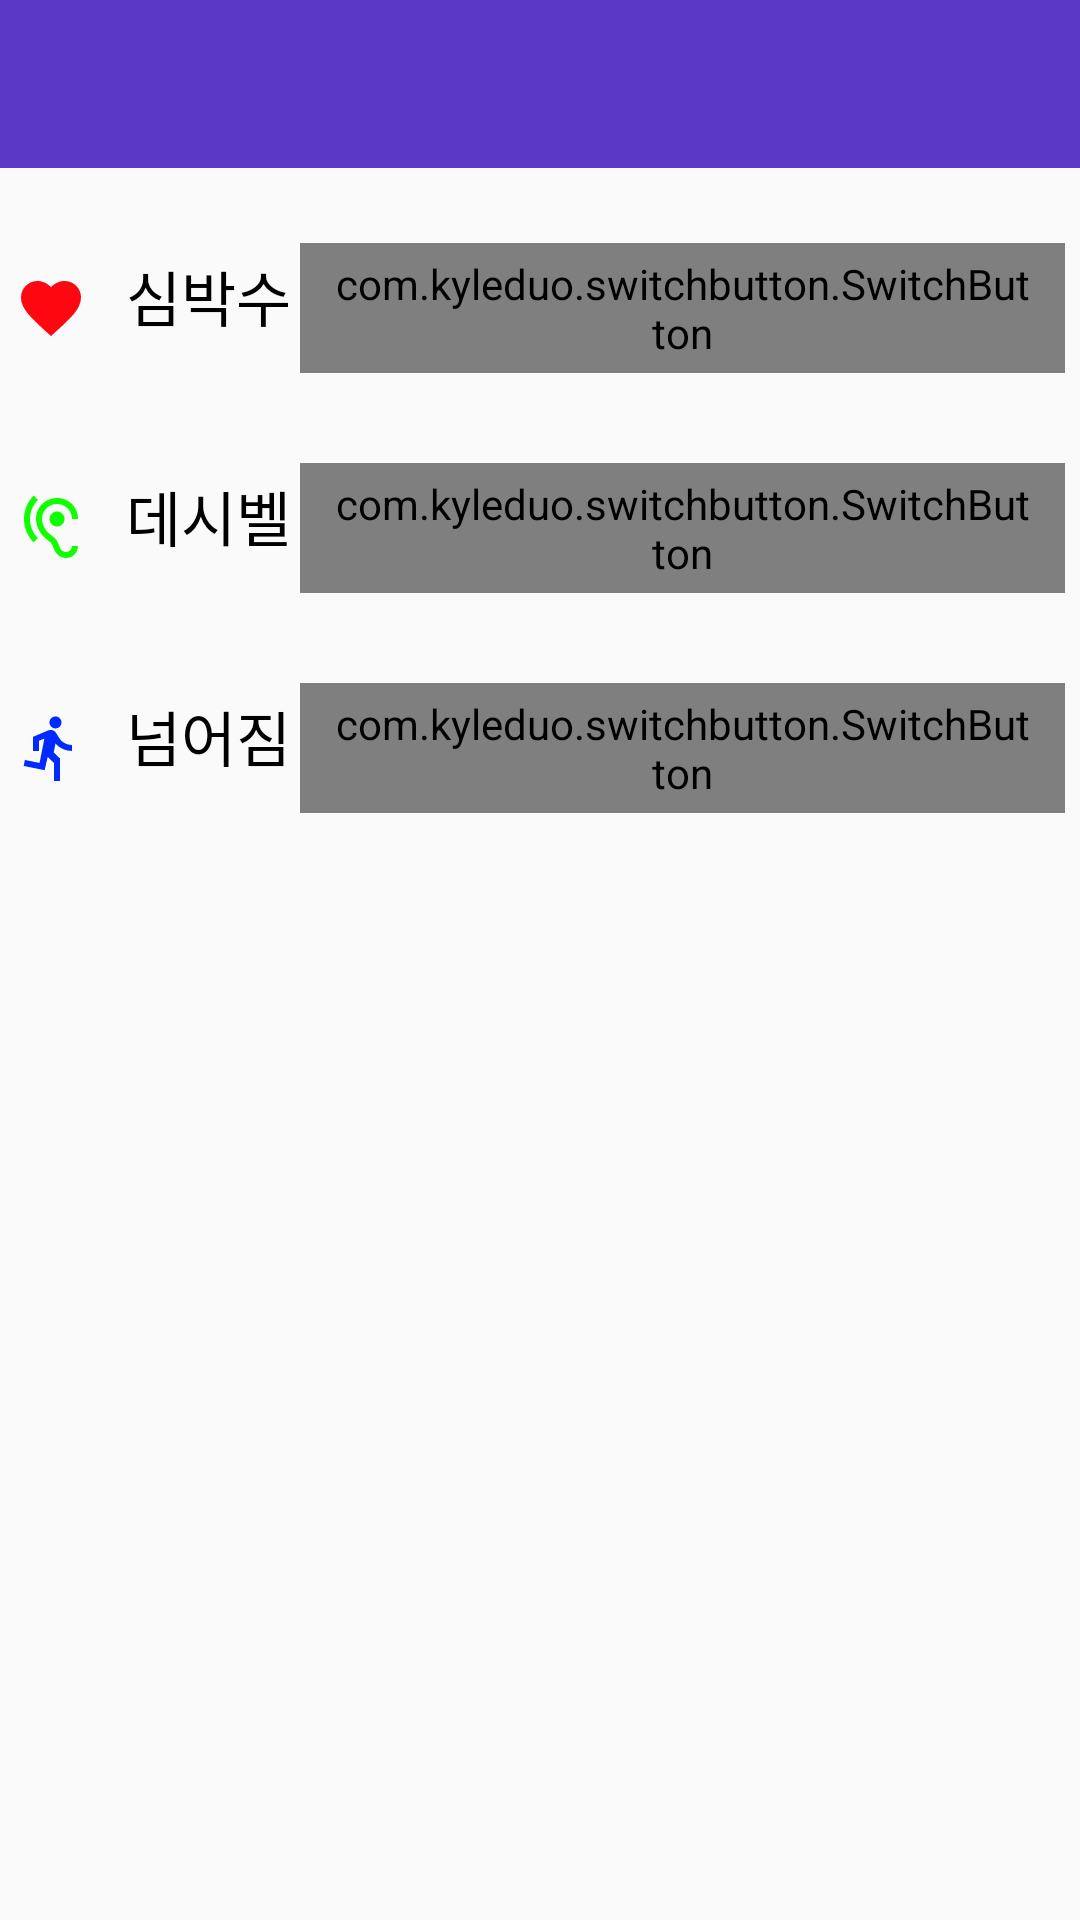

Icon bounding boxes for this 1080 × 1920 phone screenshot, format (x1, y1, x2, y2):
directions run: (23, 716, 72, 781)
favorite: (21, 281, 81, 336)
hearing: (24, 495, 78, 558)
